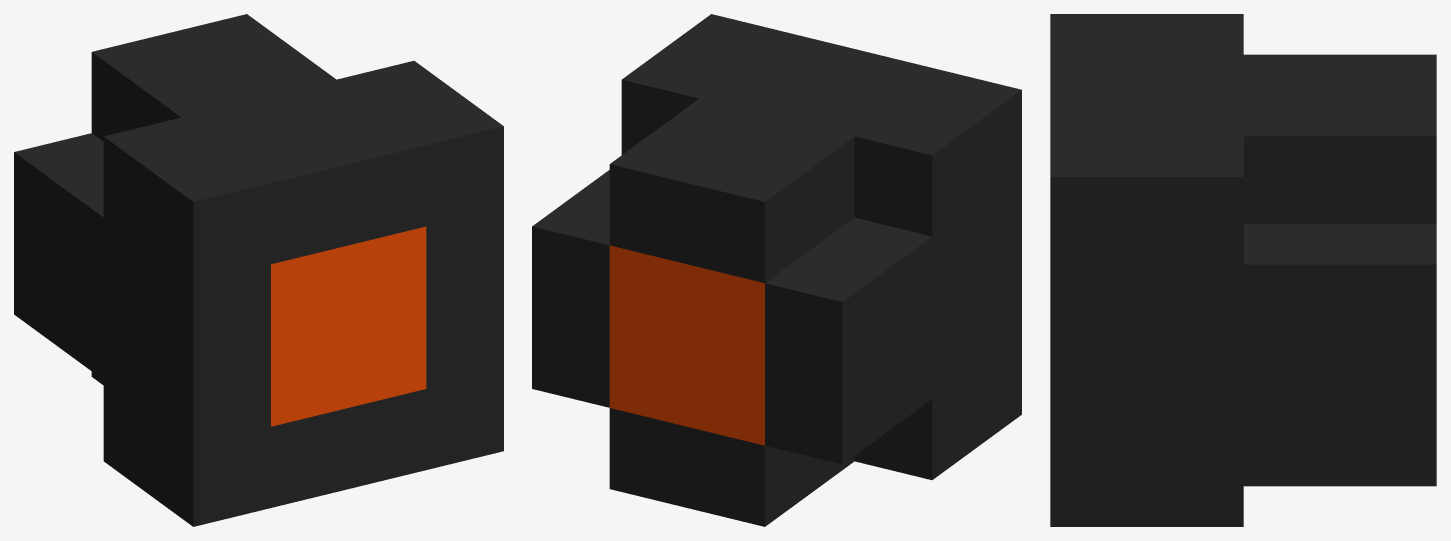
The model's file is Extra-11-InterstellarRunner_Thruster_L.obj.
3 views of the same model, side by side, from view 1: azimuth 30°, elevation 25°; view 2: azimuth 150°, elevation 25°; view 3: azimuth 270°, elevation 25° (orthographic). The views are drawn at different scales.
Visible parts, largest first — view 1: InterstellarRunner_Thruster_L; view 2: InterstellarRunner_Thruster_L; view 3: InterstellarRunner_Thruster_L.
Boxes of the visible parts, x1=… form: InterstellarRunner_Thruster_L: x1=14, y1=14, x2=503, y2=526; InterstellarRunner_Thruster_L: x1=532, y1=14, x2=1021, y2=526; InterstellarRunner_Thruster_L: x1=1050, y1=14, x2=1436, y2=526.
Bounding box in the file's own units: 0.4 × 0.4 × 0.4.
Materials: 1 (1 with a texture image).
